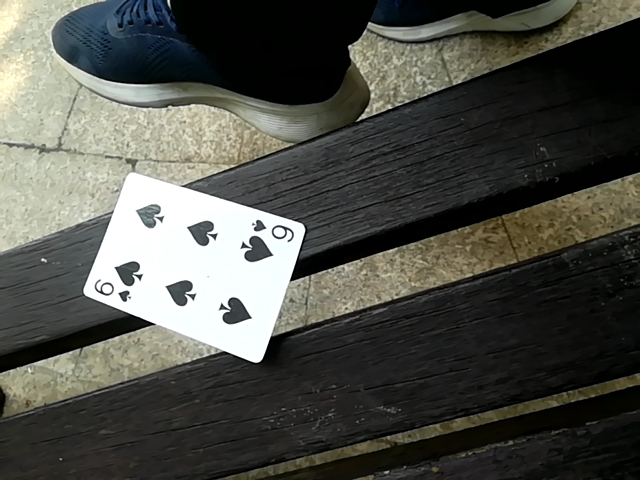ht 6: (78, 175, 295, 372)
